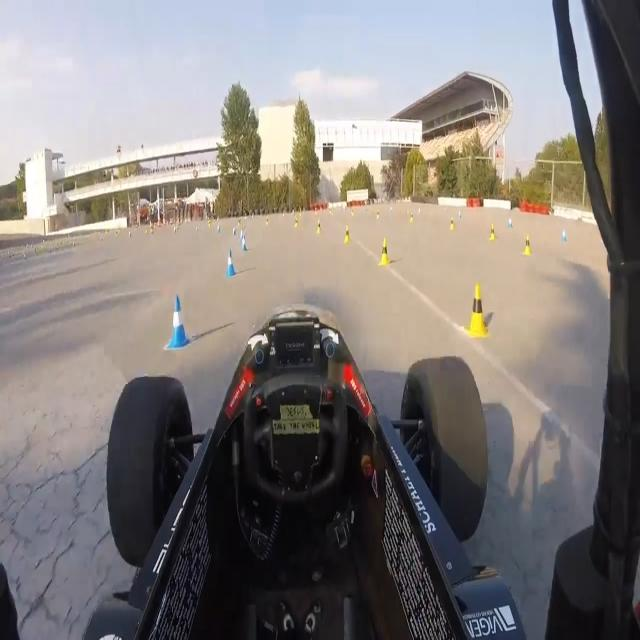blue_cone: (162, 292, 192, 352), (224, 247, 237, 279), (241, 232, 247, 253), (507, 214, 514, 231), (560, 226, 566, 242), (239, 226, 244, 240)
yellow_cone: (466, 282, 490, 337), (378, 238, 391, 264), (522, 232, 532, 258), (343, 224, 351, 244), (489, 222, 496, 240), (317, 218, 321, 234), (450, 215, 454, 230), (410, 208, 414, 223), (376, 207, 380, 220), (265, 213, 269, 226), (294, 216, 298, 227)
